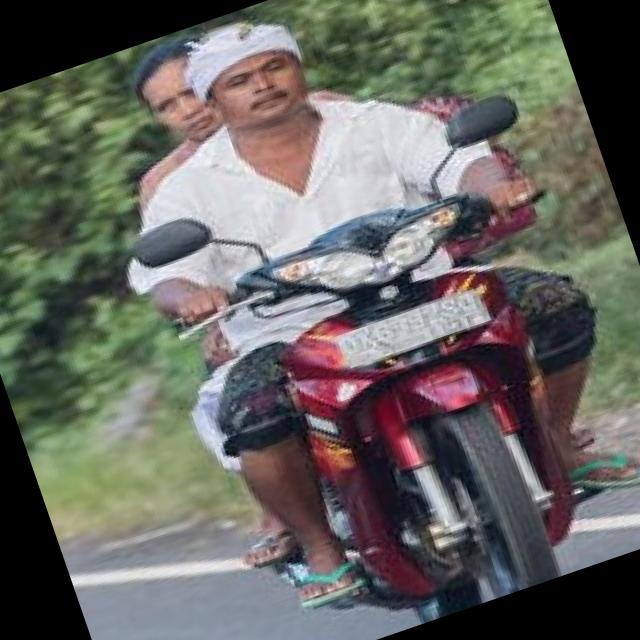without helmet: (181, 9, 367, 142)
